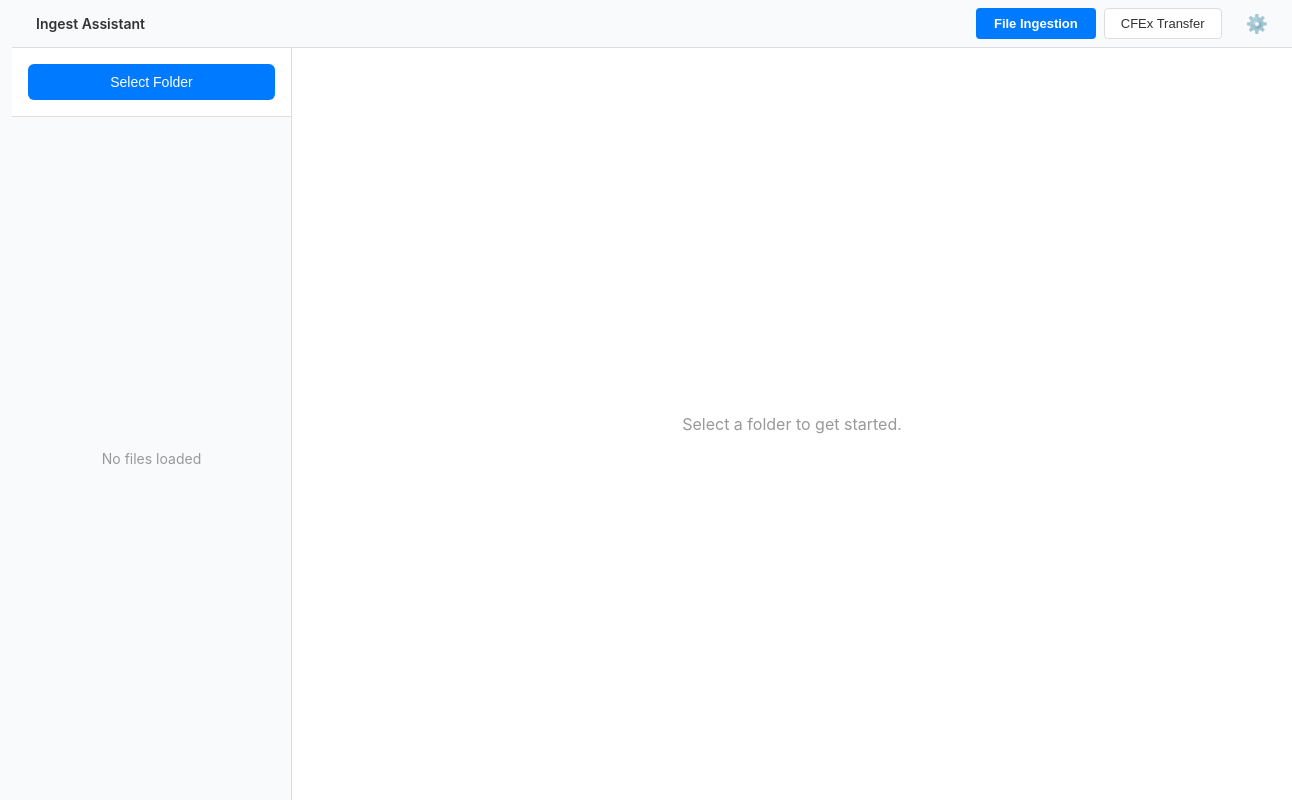
Test case: Action Field Feature › Test 2: Action field state management › should clear action field when switching from video to photo
Click the button "Select Folder" at {"x": 152, "y": 82}, box x1=28 y1=64 x2=275 y2=100
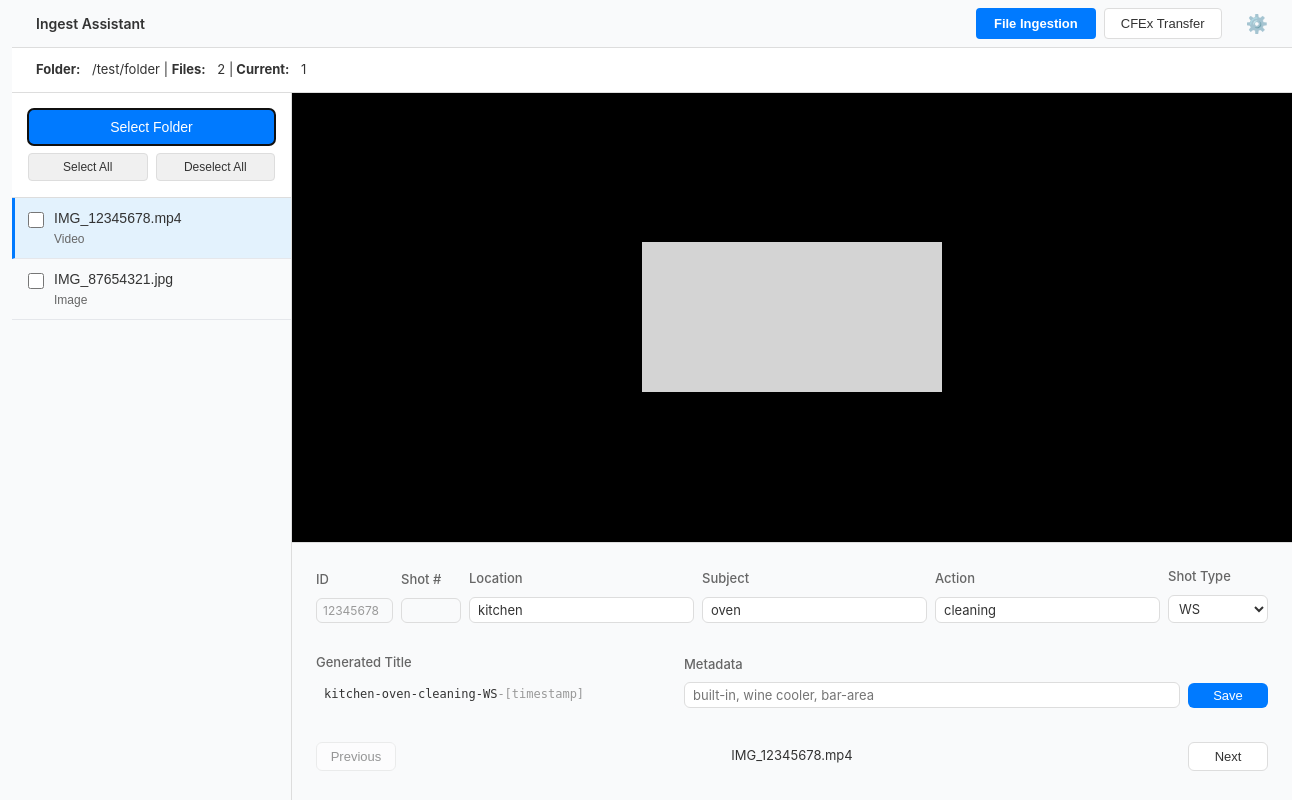
Expected: the field with placeholder "cleaning" below "Action" holds "cleaning", x1=935 y1=596 x2=1160 y2=622
Click next to switch to photo
Click the button "Next" at {"x": 1228, "y": 756}, box x1=1188 y1=742 x2=1268 y2=770
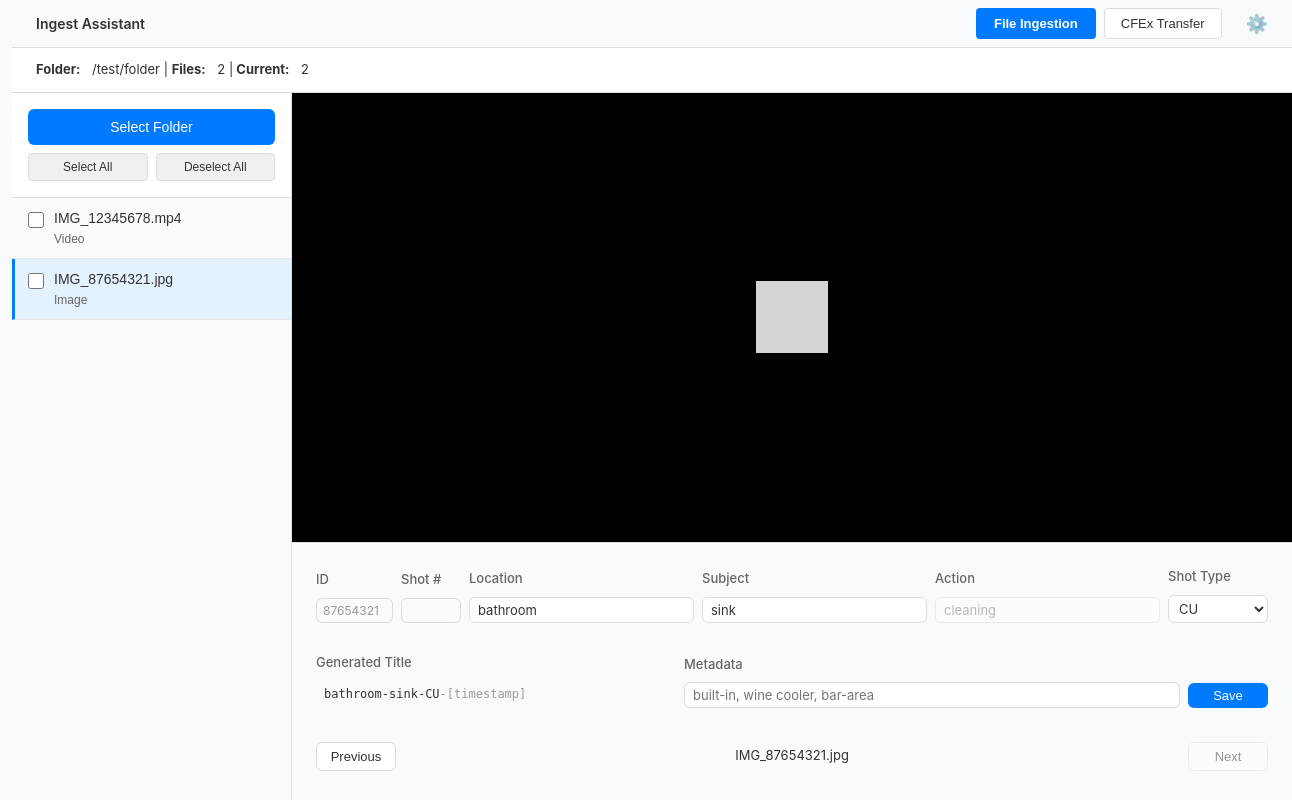
Expected: the field with placeholder "cleaning" is empty, x1=935 y1=596 x2=1160 y2=622
Expected: the field with placeholder "cleaning" is disabled, x1=935 y1=596 x2=1160 y2=622
